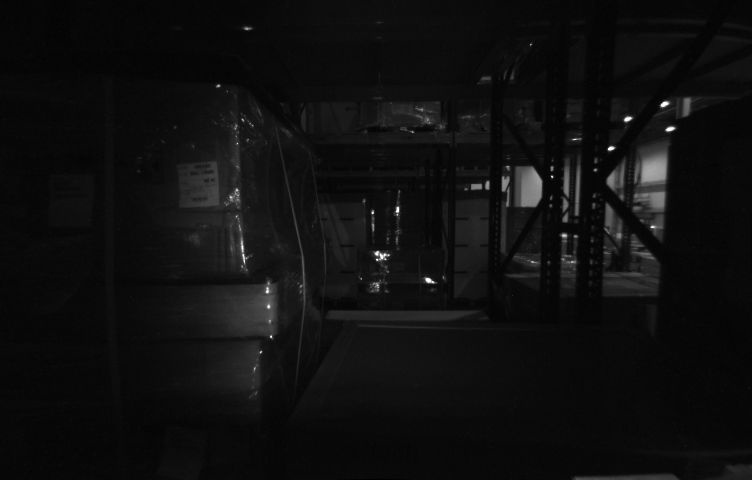True Barcode: (177, 161, 216, 206)
